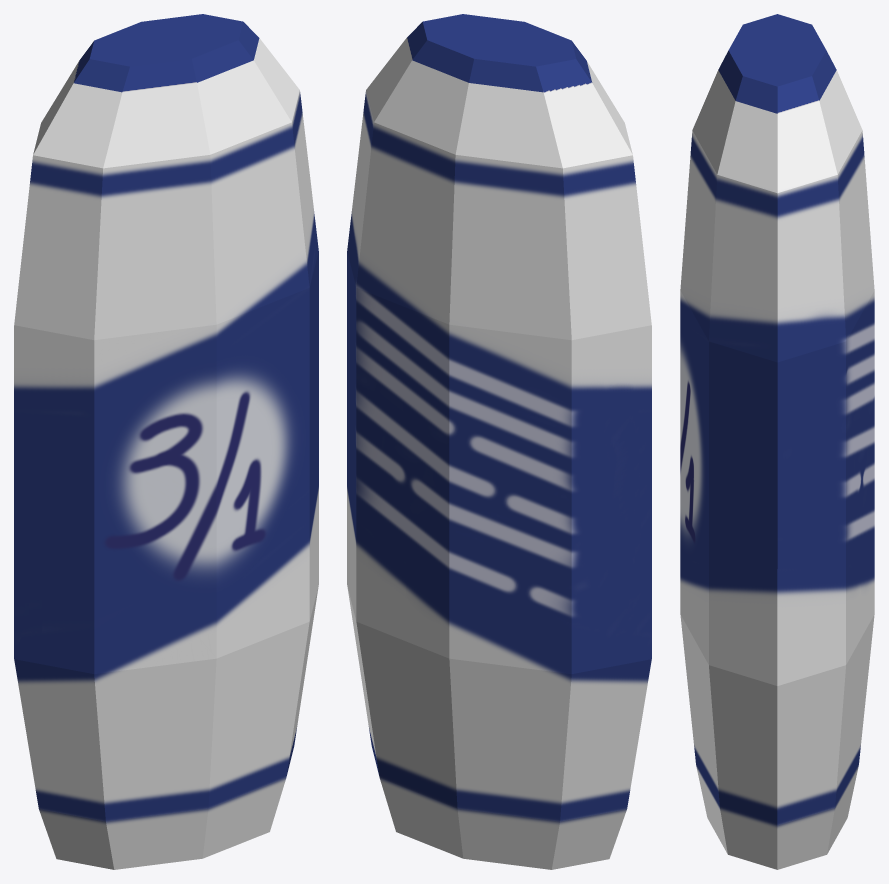
The model's file is shampoo.fbx.
3 views of the same model, side by side, from view 1: azimuth 30°, elevation 25°; view 2: azimuth 150°, elevation 25°; view 3: azimuth 270°, elevation 25° (orthographic). The views are drawn at different scales.
Visible parts, largest first — view 1: shampoo; view 2: shampoo; view 3: shampoo.
Part boxes in pixels (left/top/right/bottom): shampoo: left=14, top=14, right=318, bottom=869; shampoo: left=347, top=14, right=651, bottom=869; shampoo: left=680, top=14, right=874, bottom=869.
Bounding box in the file's own units: 52.16 × 130 × 29.71.
